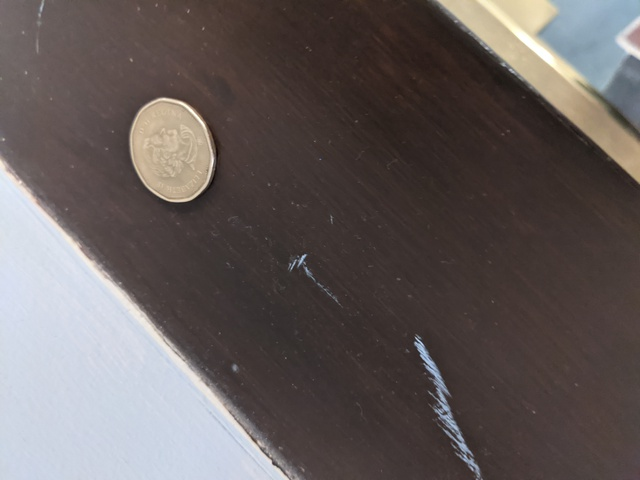loonie: (124, 95, 226, 215)
